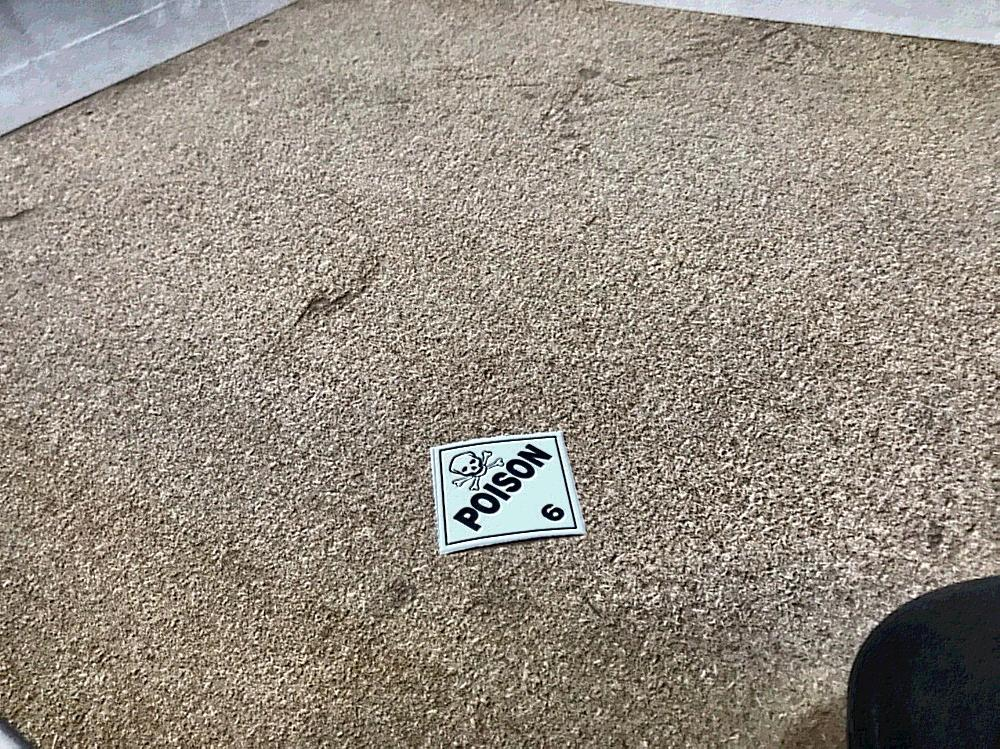poison: (434, 438, 583, 555)
